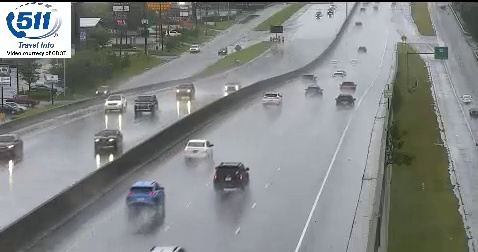car: (125, 182, 165, 208), (214, 162, 249, 189), (183, 139, 213, 159), (335, 94, 355, 110), (262, 92, 281, 105), (339, 82, 357, 94), (305, 85, 323, 97)
